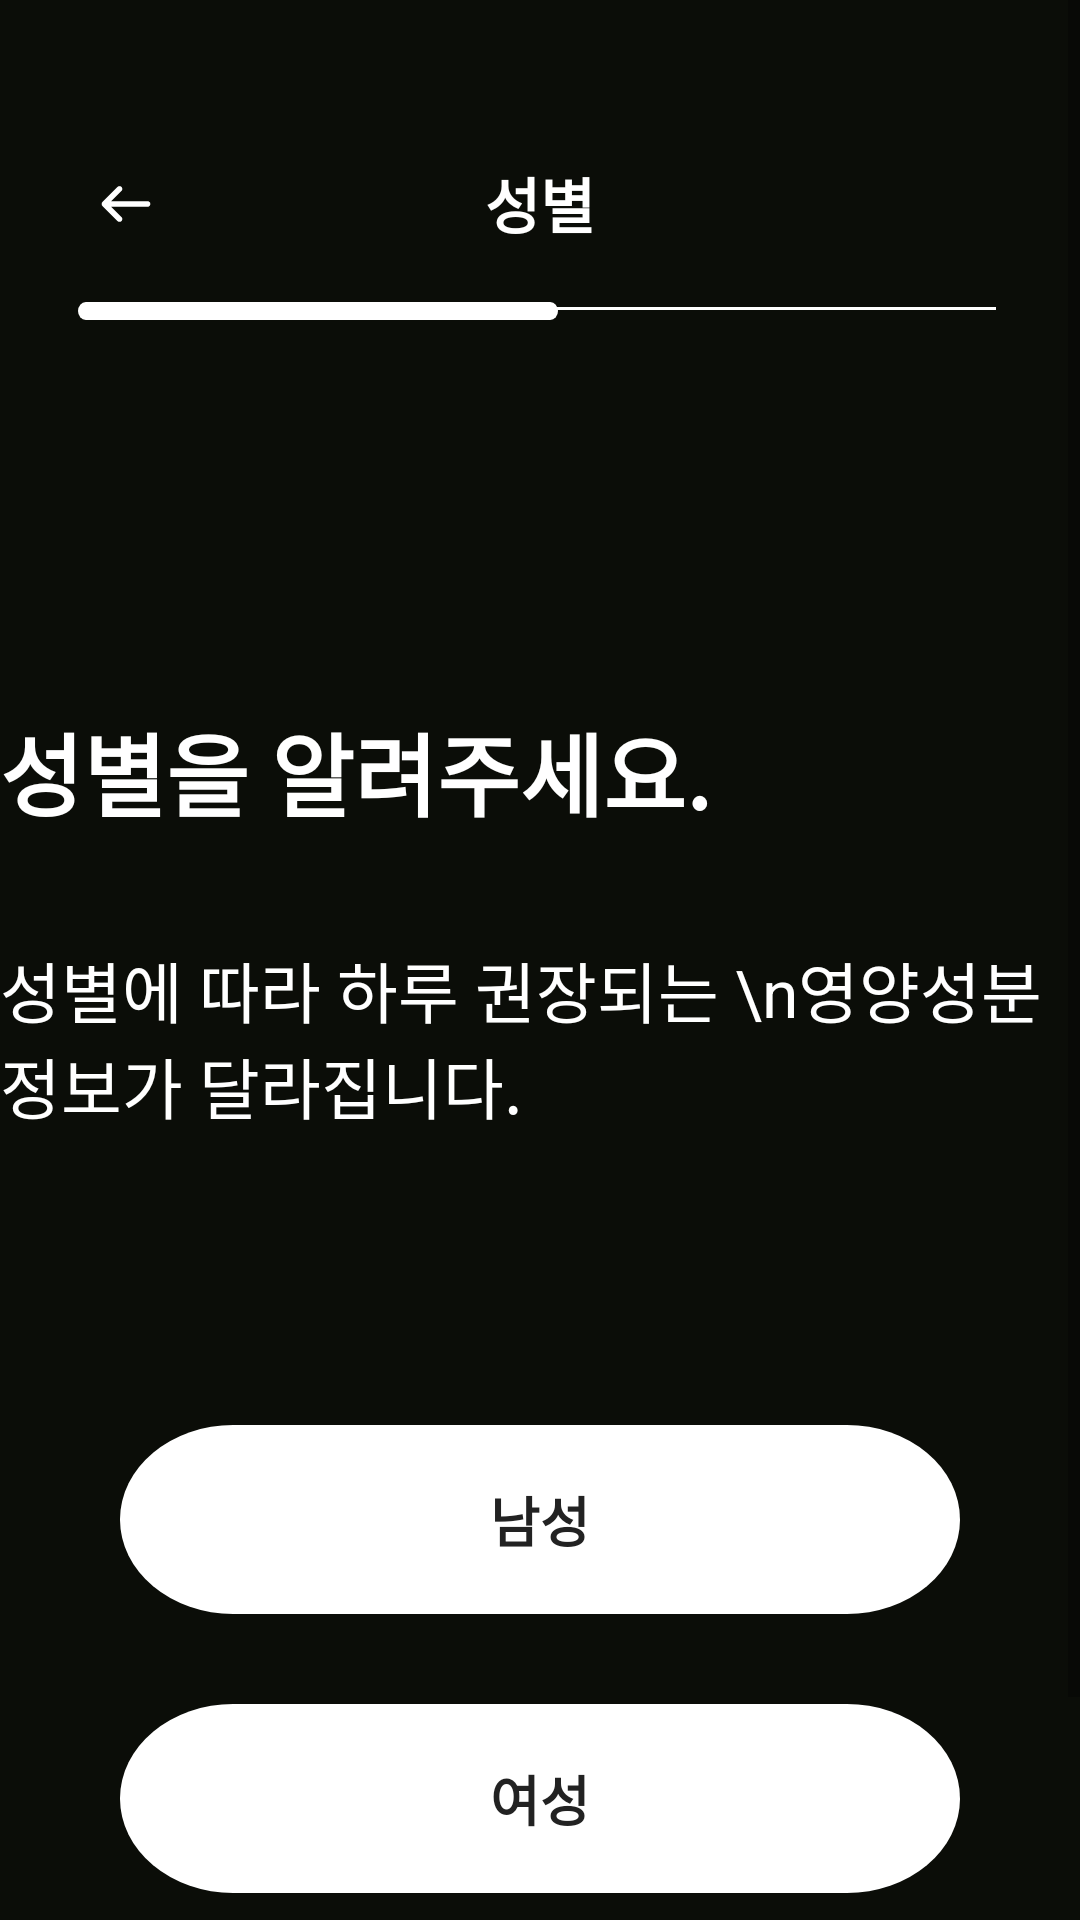

Screen size 1080×1920. Icon name, then its box in pixels as [left=x1, top=y1, right=x2, bottom=y2]:
backarrow: [left=101, top=186, right=151, bottom=222]
